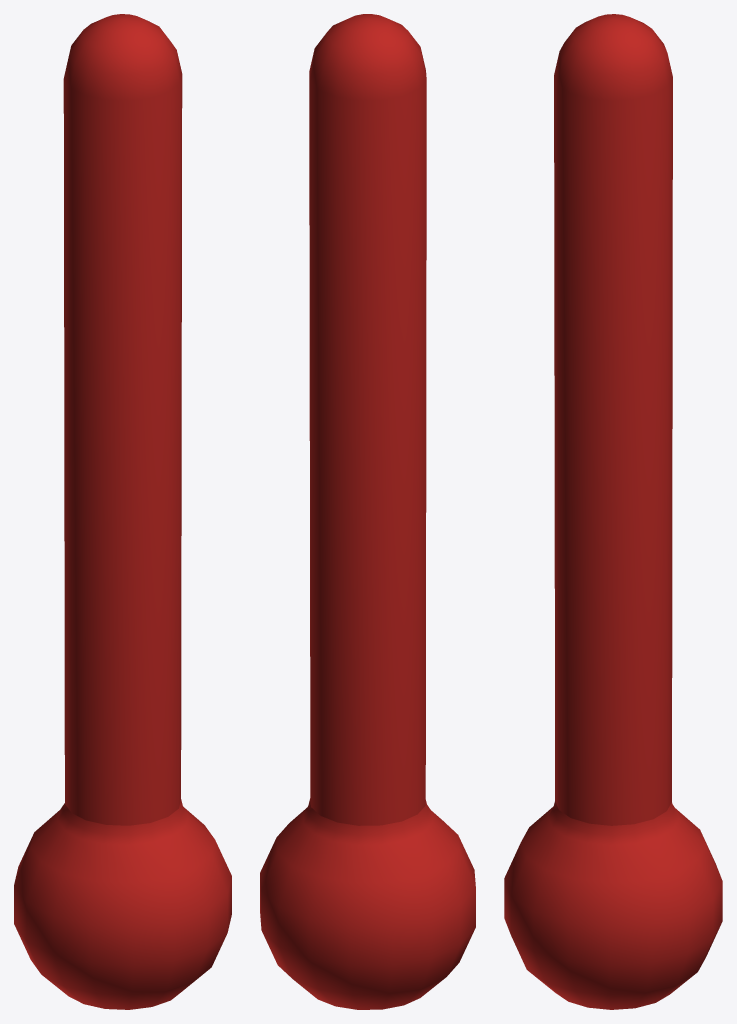
The model's file is Thermometr_long.fbx.
The picture shows the model from 3 angles, left to right: view 1: azimuth 30°, elevation 25°; view 2: azimuth 150°, elevation 25°; view 3: azimuth 270°, elevation 25°; orthographic projection.
Parts seen in each view (by area): view 1: Thermometr_Height, Thermometr_bulb; view 2: Thermometr_Height, Thermometr_bulb; view 3: Thermometr_Height, Thermometr_bulb.
Part boxes in pixels (<box>): Thermometr_Height: <box>63,14,182,825</box>; Thermometr_bulb: <box>14,799,231,1009</box>; Thermometr_Height: <box>309,14,426,825</box>; Thermometr_bulb: <box>260,798,475,1009</box>; Thermometr_Height: <box>554,14,672,825</box>; Thermometr_bulb: <box>504,800,722,1009</box>.
Size of the model in its own units: 6.56 by 32.51 by 6.56.
